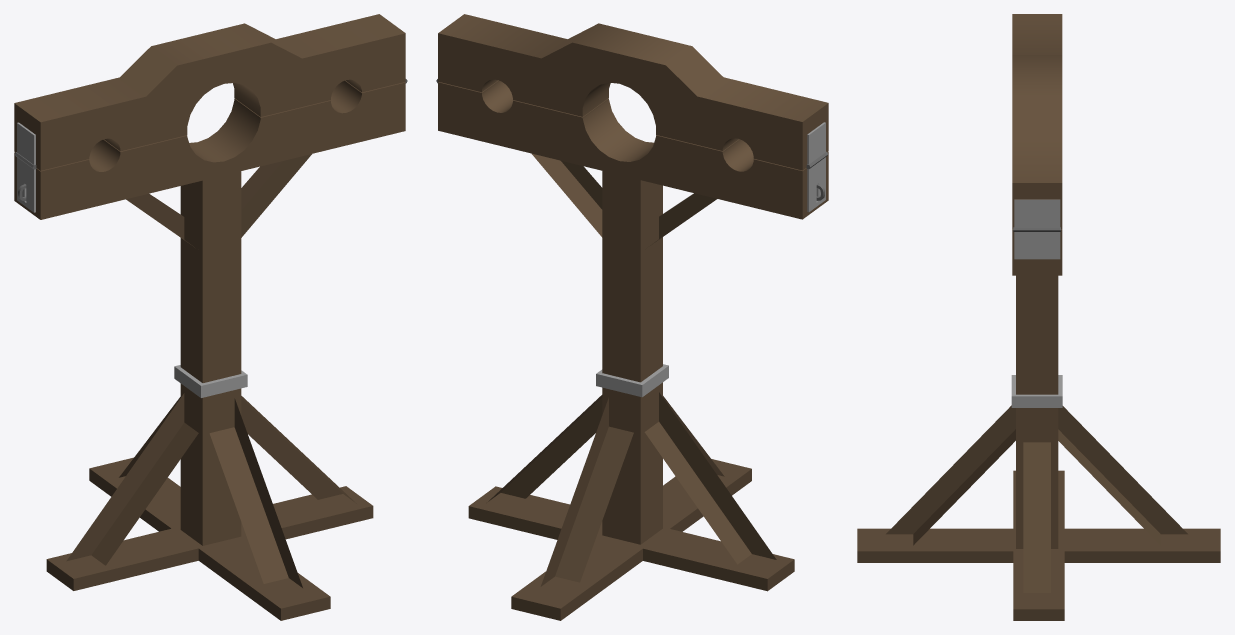
The model's file is Pilory.glb.
3 views of the same model, side by side, from view 1: azimuth 30°, elevation 25°; view 2: azimuth 150°, elevation 25°; view 3: azimuth 270°, elevation 25° (orthographic). The views are drawn at different scales.
Parts seen in each view (by area): view 1: torture_device_012; view 2: torture_device_012; view 3: torture_device_012.
Part boxes in pixels (x1,y1,x2,y2): torture_device_012: (14,14,407,620); torture_device_012: (436,14,828,620); torture_device_012: (857,14,1220,620).
Size of the model in its own units: 1.14 by 1.45 by 1.
